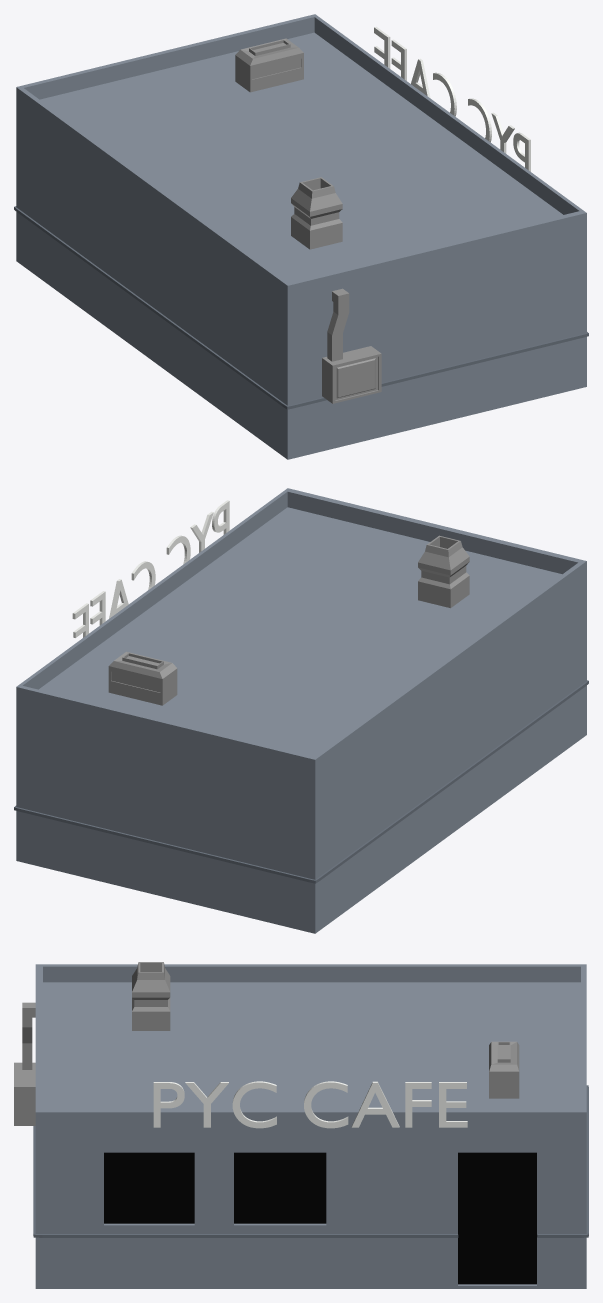
Rendered from Entairtainment.fbx.
3 views of the same model, one above another, from view 1: azimuth 30°, elevation 25°; view 2: azimuth 150°, elevation 25°; view 3: azimuth 270°, elevation 25° (orthographic).
Visible parts, largest first — view 1: Plane, Cube, Cube.001, Cube.002, фвцфв; view 2: Plane, Cube.001, Cube.002, фвцфв; view 3: Plane, фвцфв, Cube.001, Cube, Cube.002.
Boxes of the visible parts, x1,y1,x2,y2 form: Plane: [14, 14, 588, 459]; Cube: [322, 288, 381, 403]; Cube.001: [291, 177, 342, 249]; Cube.002: [235, 38, 303, 92]; фвцфв: [374, 26, 530, 171]; Plane: [14, 488, 588, 933]; Cube.001: [418, 535, 469, 608]; Cube.002: [108, 651, 177, 705]; фвцфв: [72, 500, 229, 637]; Plane: [33, 964, 588, 1288]; фвцфв: [153, 1081, 467, 1128]; Cube.001: [132, 962, 170, 1030]; Cube: [14, 1002, 35, 1125]; Cube.002: [489, 1041, 519, 1098].
Bounding box in the file's own units: 272 × 182 × 440.
